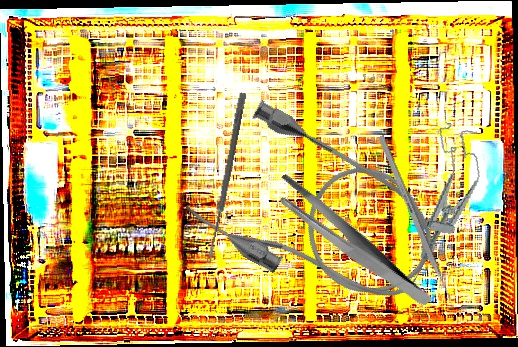Cannula: (178, 92, 456, 336)
Dressing Forceps: (269, 147, 433, 338)
Pusher: (377, 134, 459, 315)
Speculum: (410, 121, 490, 267)
Surgical Spoon: (205, 91, 247, 265)
